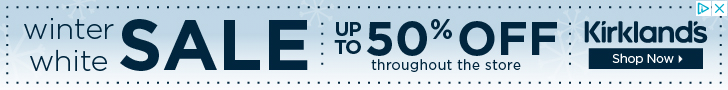fake_button: (585, 46, 708, 74)
